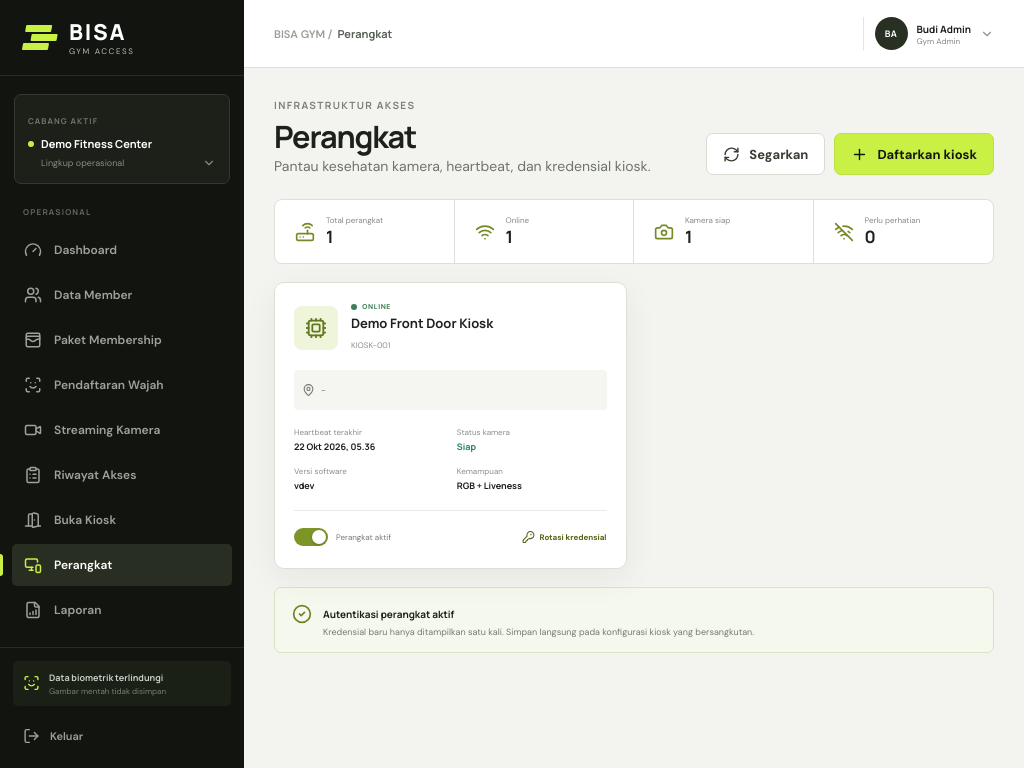
Test: admin API integrations › creates a device with location capabilities and displays its one-time credential
This screenshot has width=1024, height=768.
Expected: the heading "Perangkat" is shown, [274, 115, 416, 157]
Click the button "Daftarkan kiosk".
click(914, 154)  # box [834, 133, 994, 175]
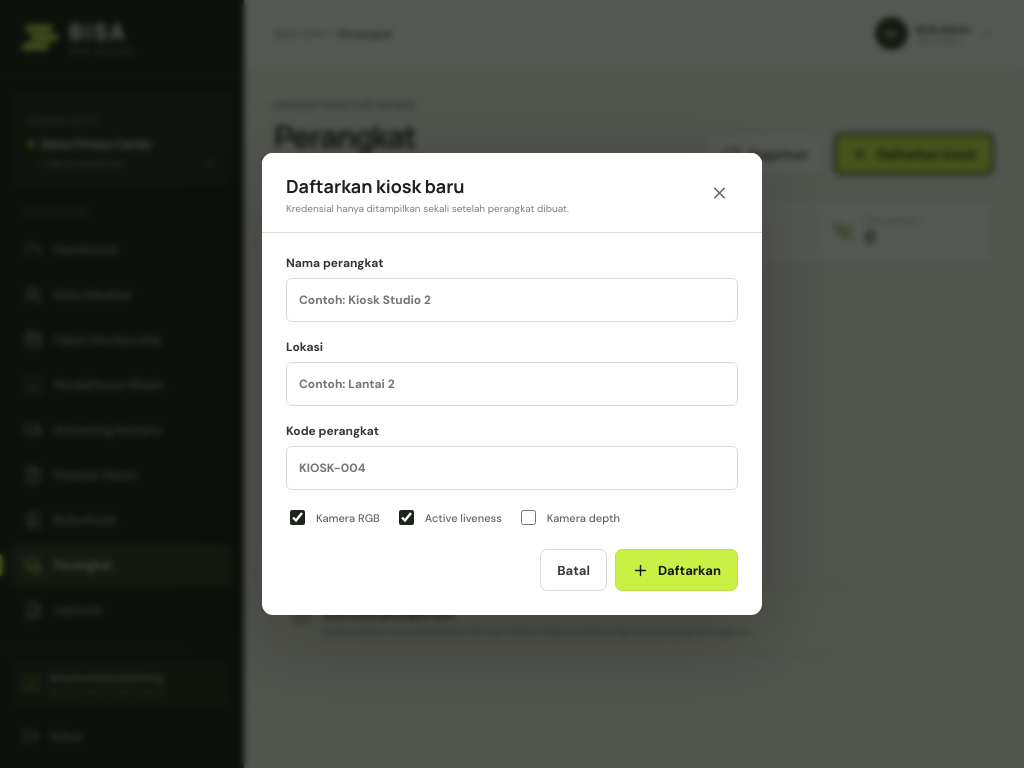
Type "Kiosk Timur" into the field labelled "Nama perangkat".
click(512, 300); type("Kiosk Timur")  # box [286, 278, 738, 322]
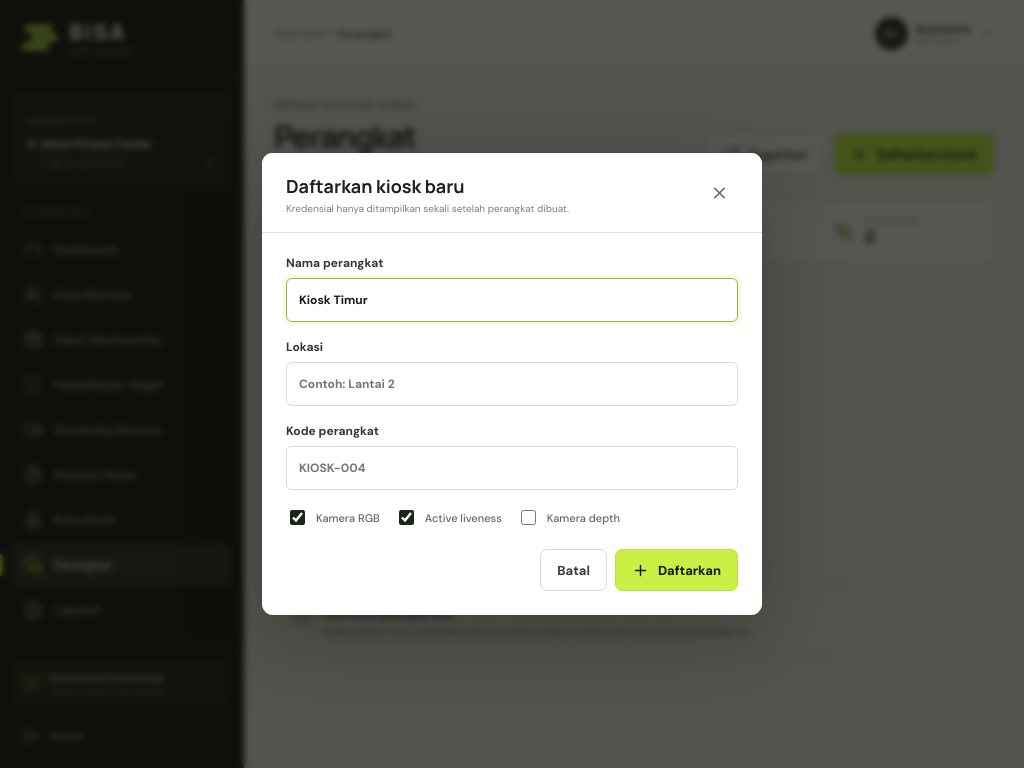
Type "Pintu timur" into the field named "Lokasi perangkat".
click(512, 384); type("Pintu timur")  # box [286, 362, 738, 406]
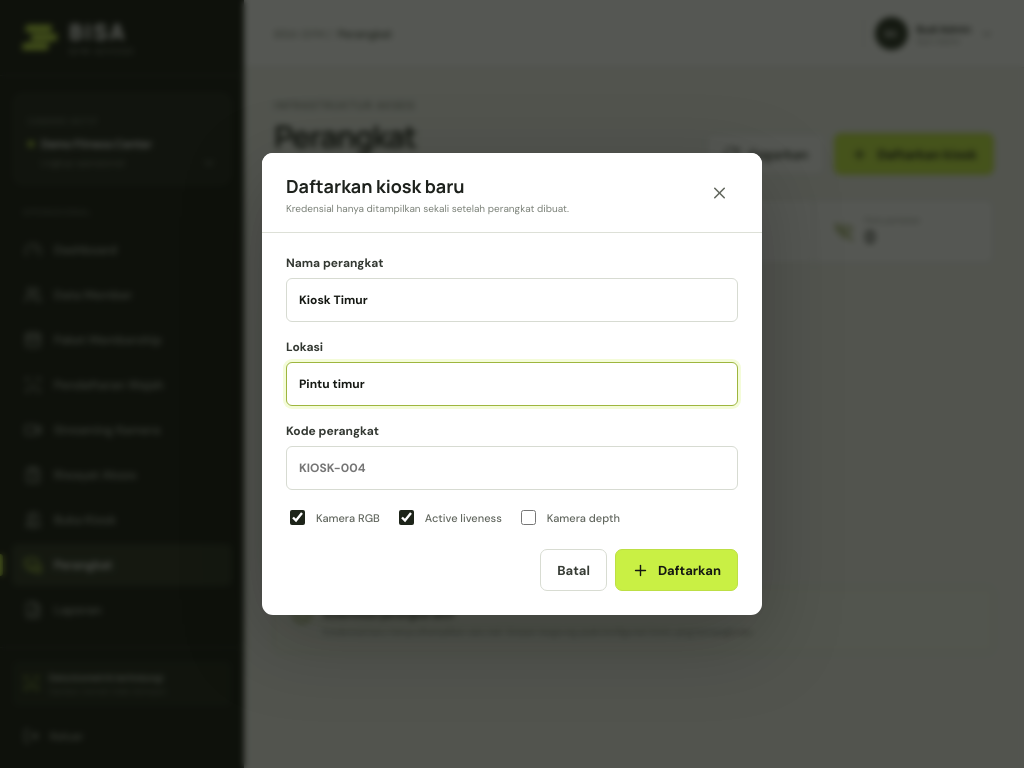
Type "KIOSK-TIMUR" into the field labelled "Kode perangkat".
click(512, 468); type("KIOSK-TIMUR")  # box [286, 446, 738, 490]
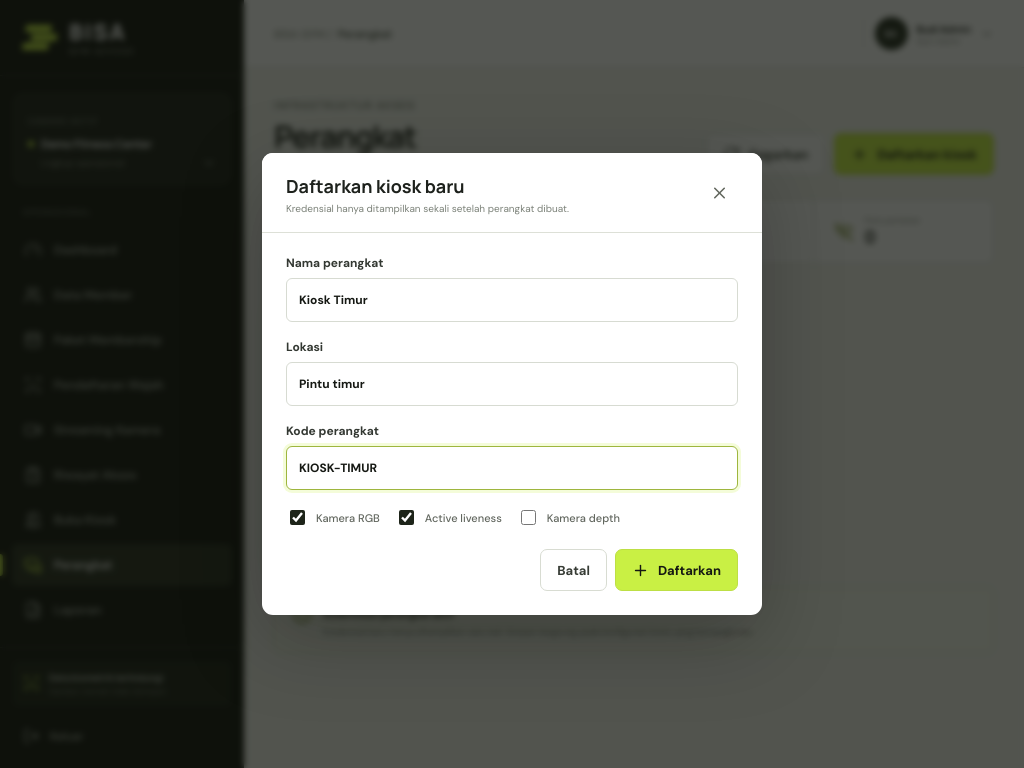
Click the button "Daftarkan".
click(676, 570)  # box [615, 549, 738, 591]
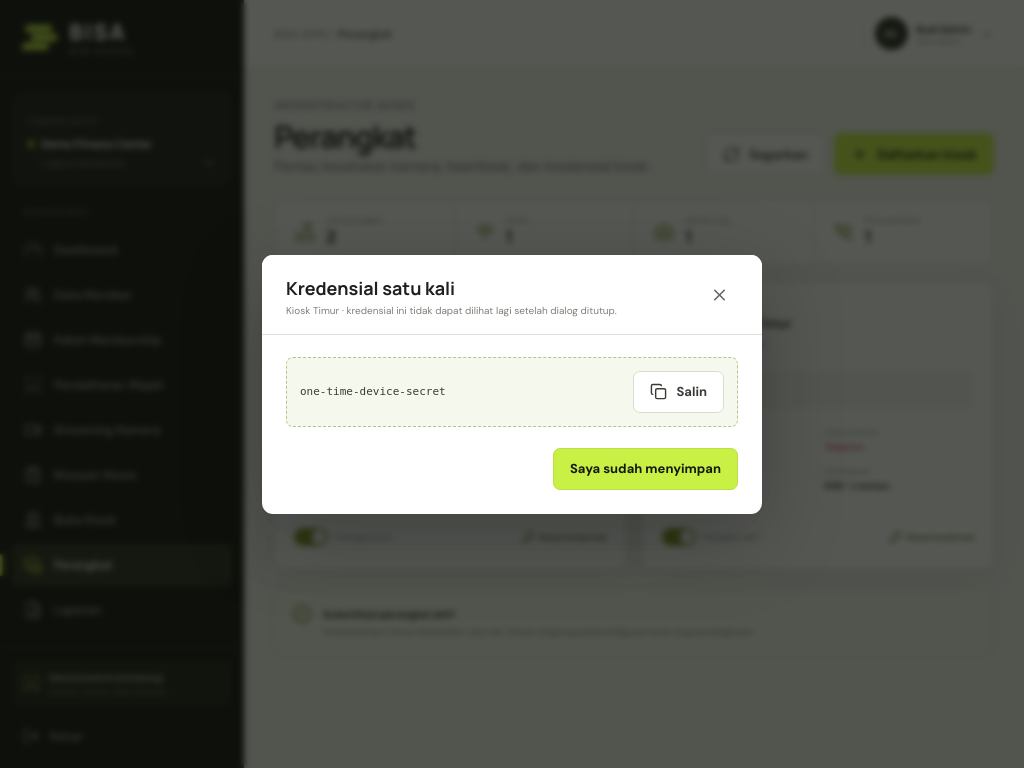
Expected: the text "one-time-device-secret" is shown, [300, 385, 446, 398]
